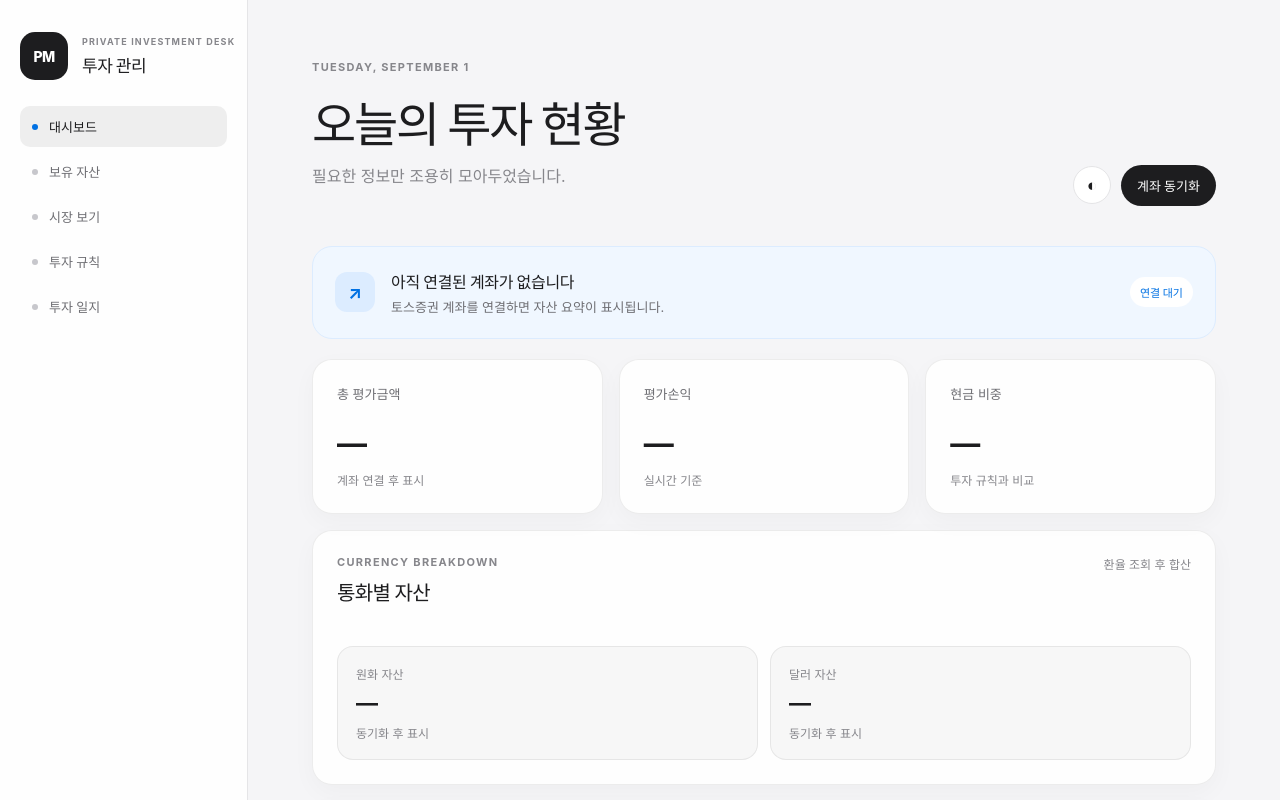
Test case: DashboardPage › switches between light and dark themes and remembers the choice
The width and height of the screenshot is (1280, 800).
What coordinates should you click on to do the following:
click the button named "다크 모드로 전환"
I would click on:
 (1092, 185)
Its box is [1073,166,1111,204].
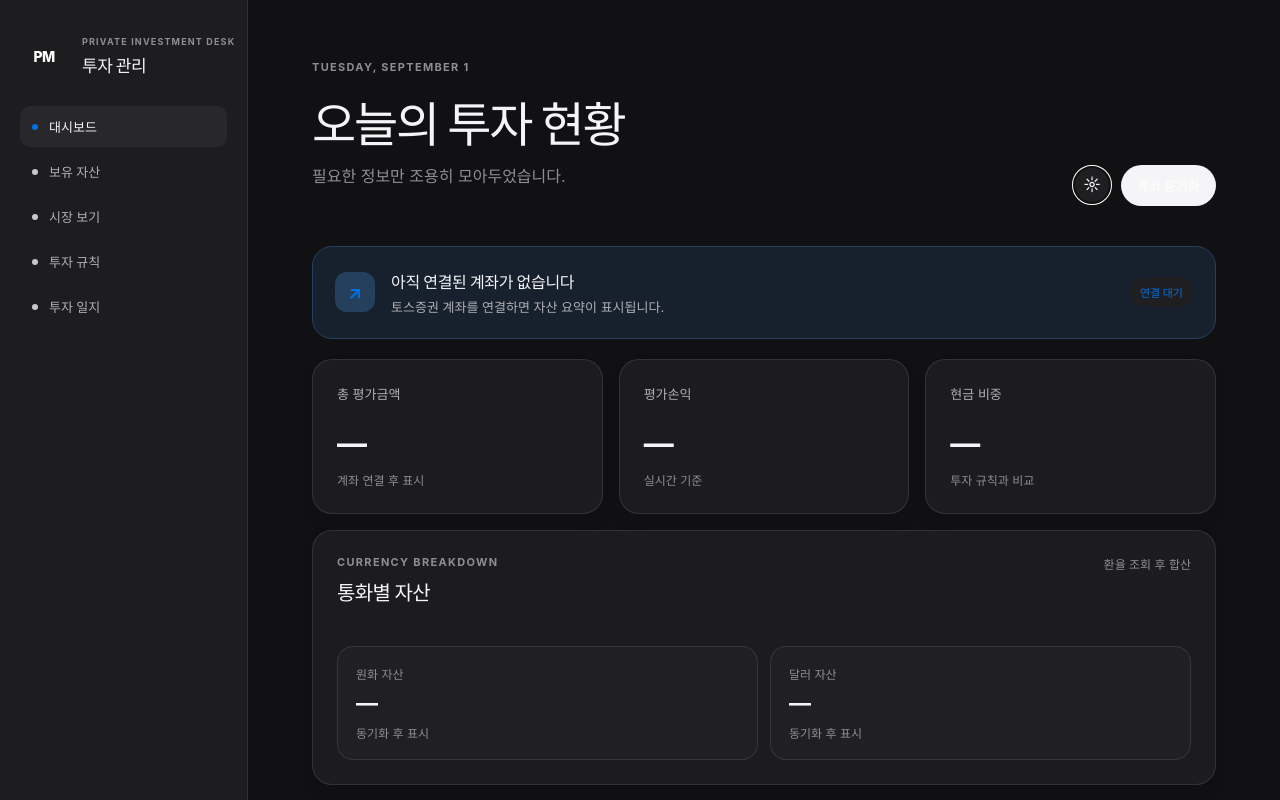
Result: the button named "라이트 모드로 전환" is shown at [1073,166,1111,204]
